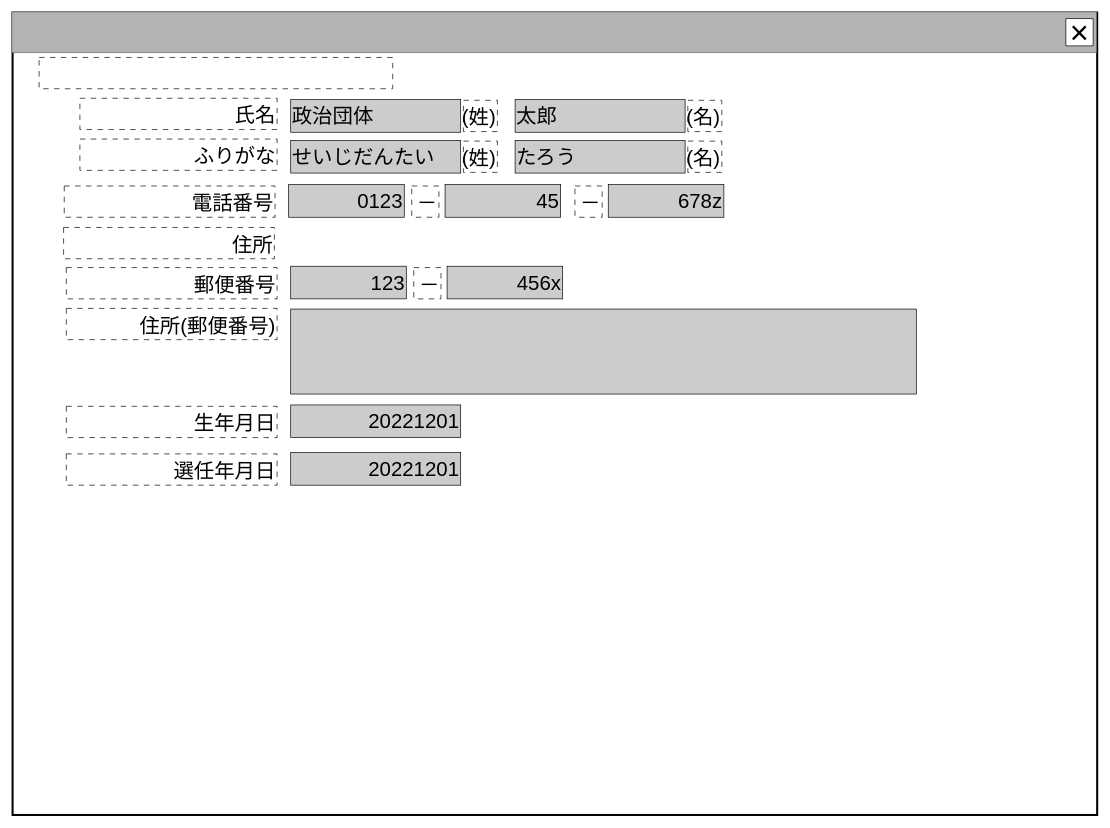
Some shapes in this 1110 by 828 pixel diagram are drawn without their labels. The centre of each missing label's shape, as x and y in pixels:
会計責任者職務代行者の入力項目: the point at 215,73
東京都千代田区霞ケ浦x丁目y番地zzzabcビル3Fqqq号室: the point at 603,351
